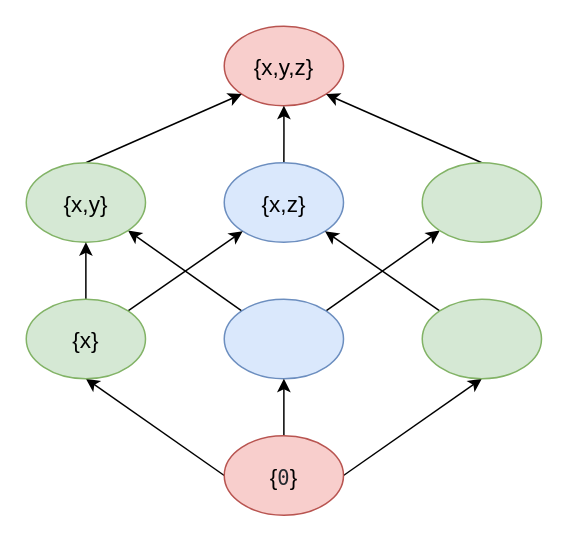
Some shapes in this 569 by 542 pixel diagram are drawn without their labels. The shapes that lost their labels are listed below. From the top down, each one's box as (x1, y1, x2, y2) in pixels, then its label:
(421, 161, 542, 242): {y,z}
(223, 298, 344, 379): {y}
(421, 298, 542, 379): {z}
